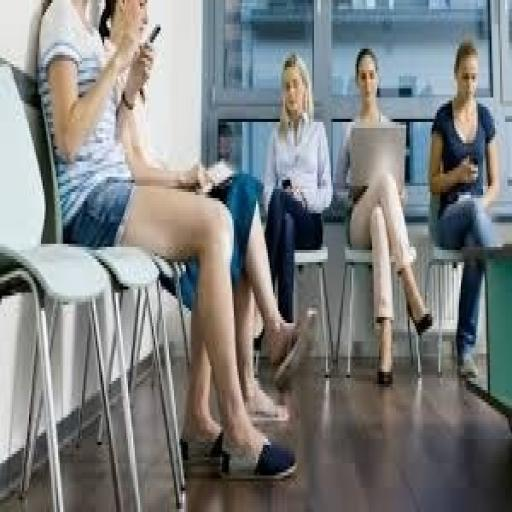sitting: (34, 0, 318, 482), (333, 43, 433, 387), (426, 37, 502, 381), (258, 49, 334, 332)
